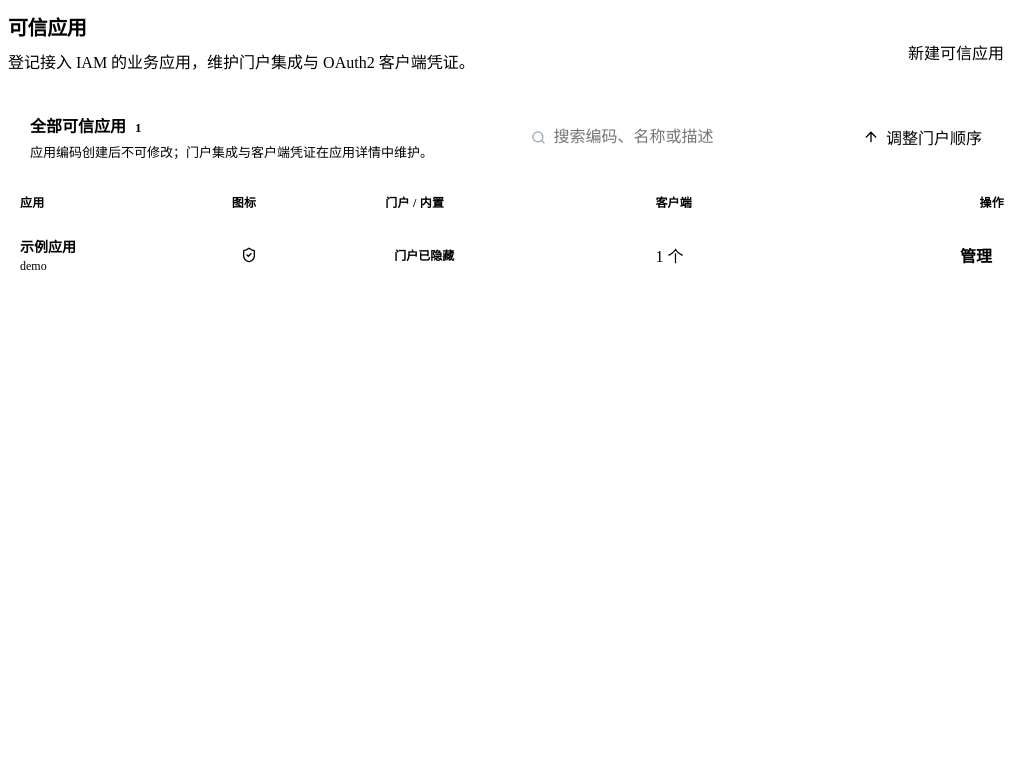
it: TrustedApplicationsView › 打开详情提供资料编辑、门户集成与客户端管理
Step 1. Click the button with class "table-primary-action" → (48, 255), box [20,236,76,274]
(page scrolled)
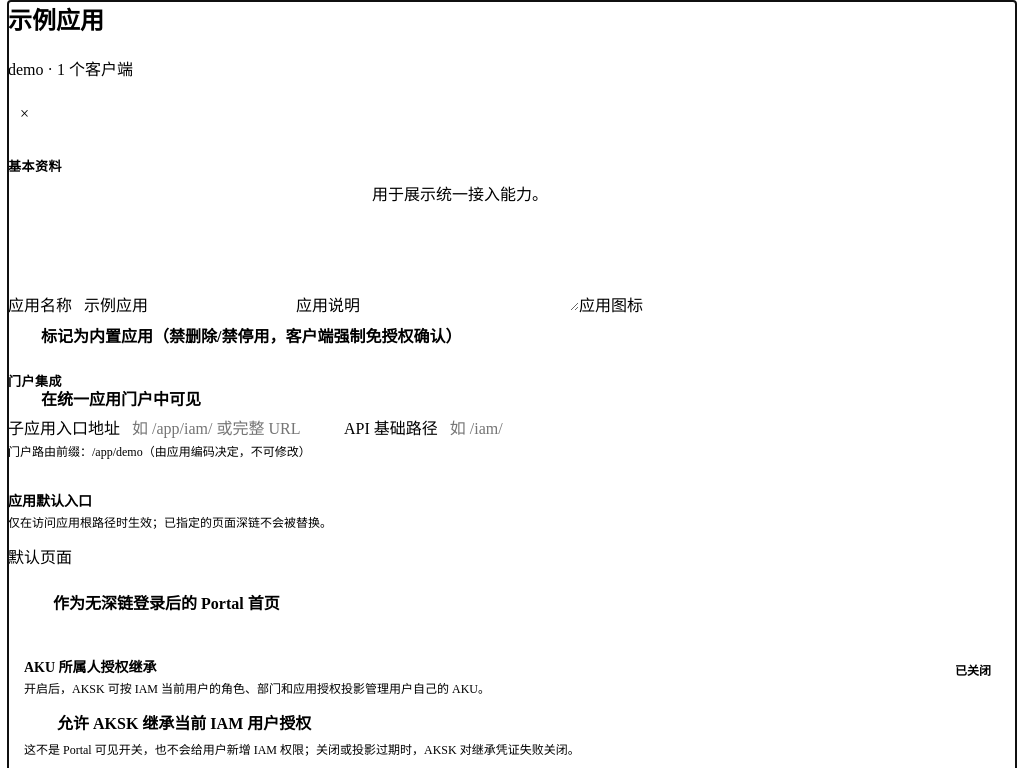
Check: the text "基本资料" is shown, box [8,159,62,174]
Check: the text "门户路由前缀：/app/demo" is shown, box [8,445,311,459]
Check: the text "AKU 所属人授权继承" is shown, box [24,660,157,675]
